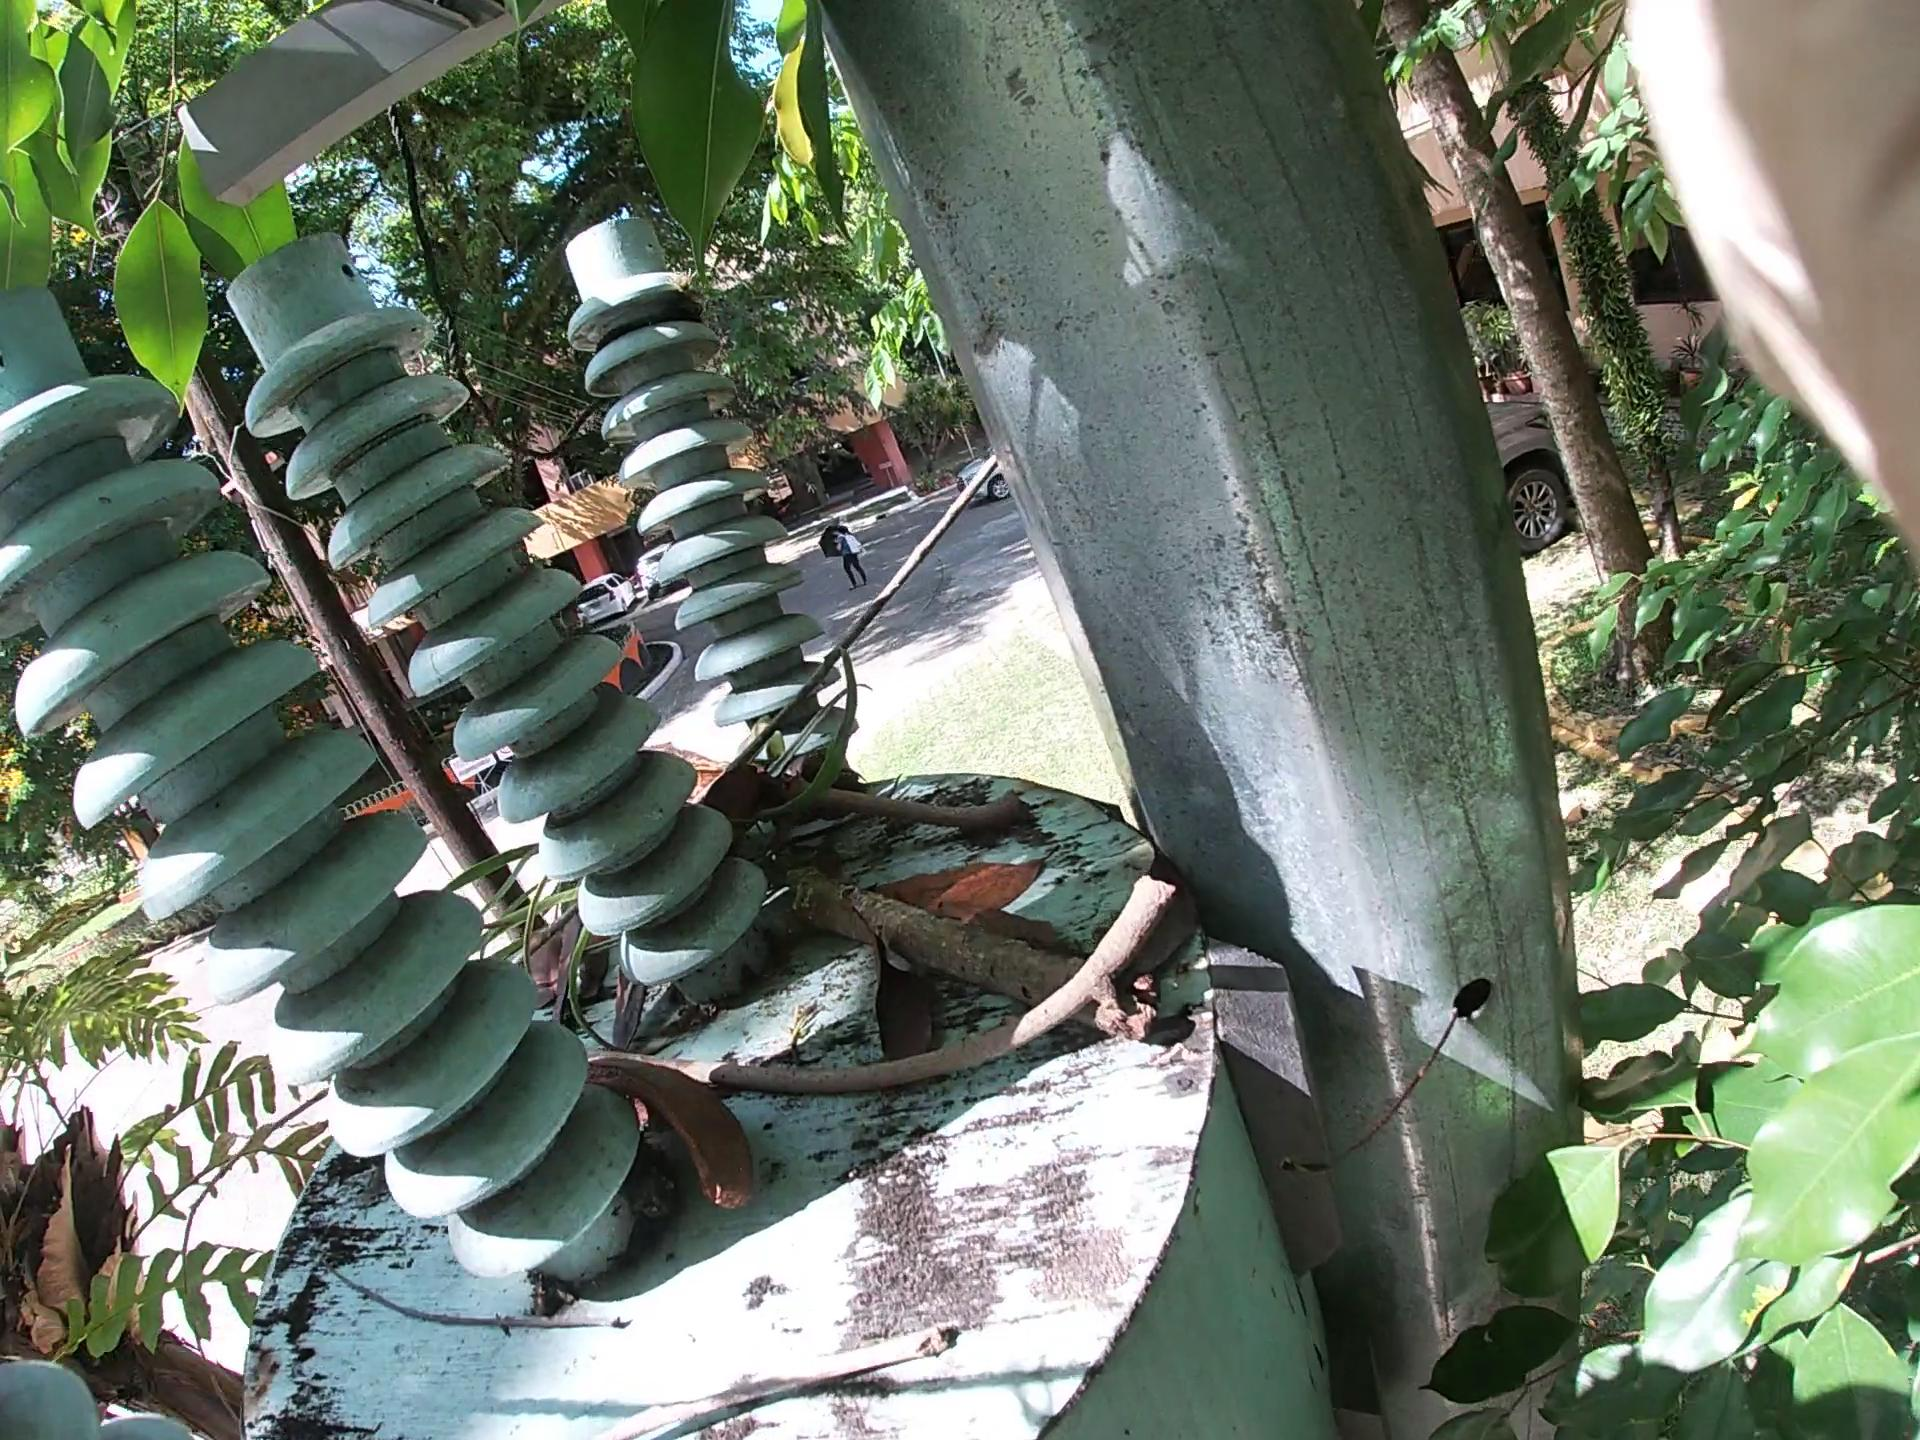branch with leaves: (447, 646, 945, 1053)
leaf: (863, 839, 1042, 986)
mahogany fruit: (594, 1026, 791, 1209)
tree branch: (85, 445, 909, 1265), (774, 843, 1132, 1097), (333, 1317, 1052, 1440)
